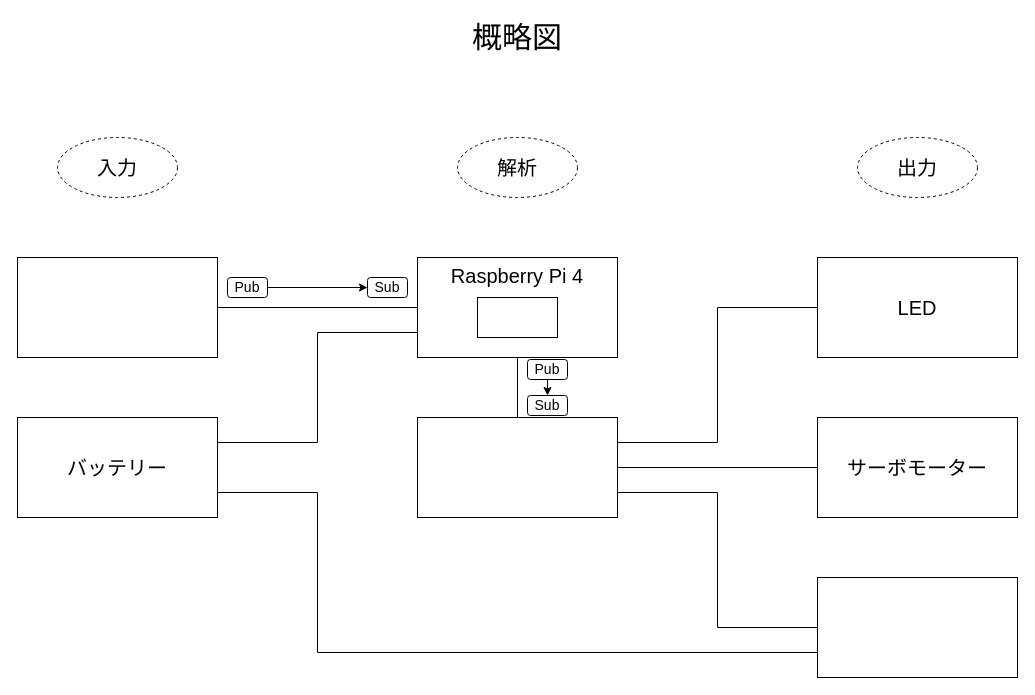
This 1035x695 diagram has some shape labels left out. The shapes that lost their labels are listed below. From the top down, each one's centre as x and y in pixels, then its label:
the point at 117,307: ジョイスティック コントローラー
the point at 517,317: ROS
the point at 517,467: Arduino UNO
the point at 917,627: DCモーター
